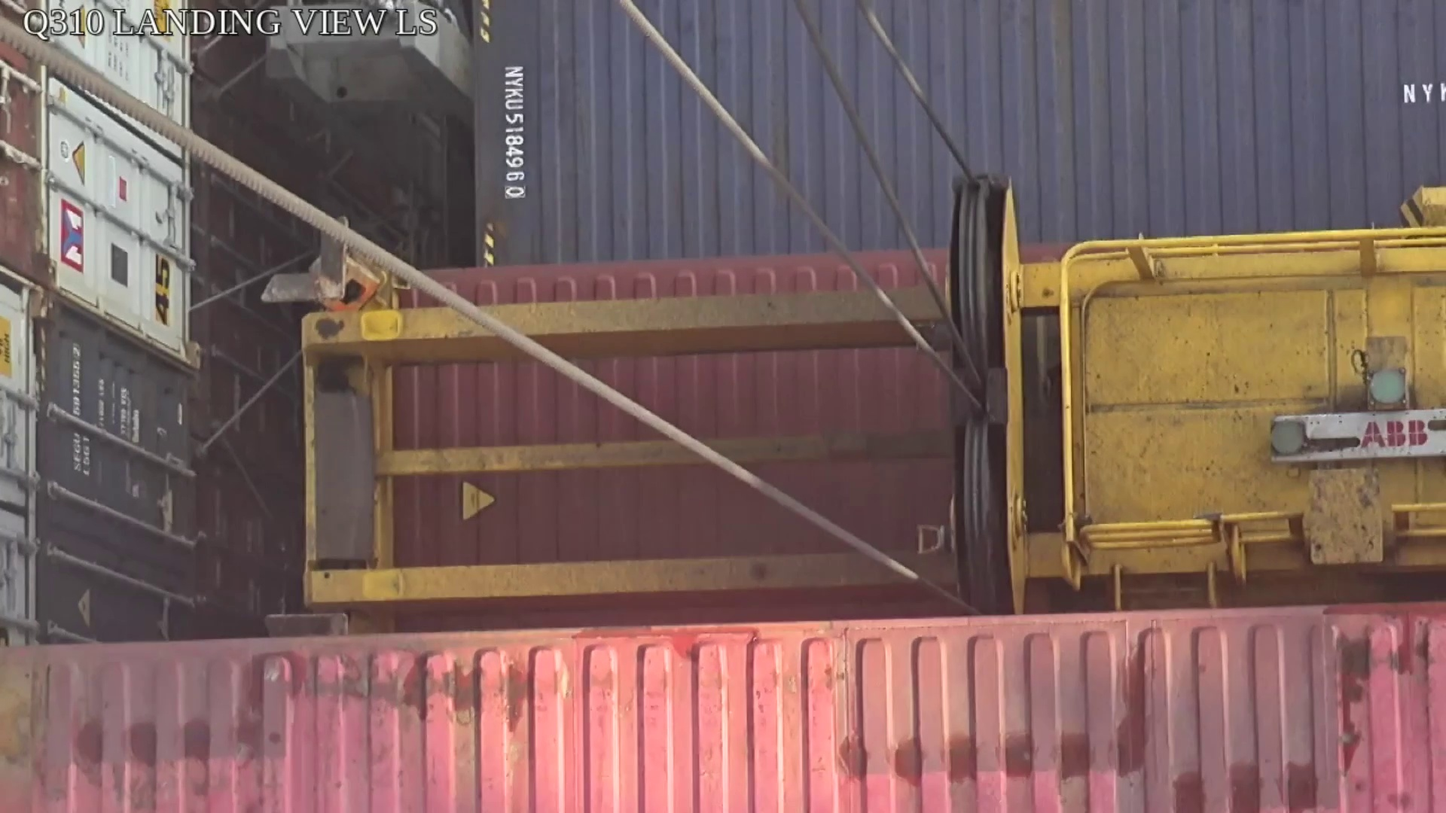aa: (946, 178, 1029, 620)
